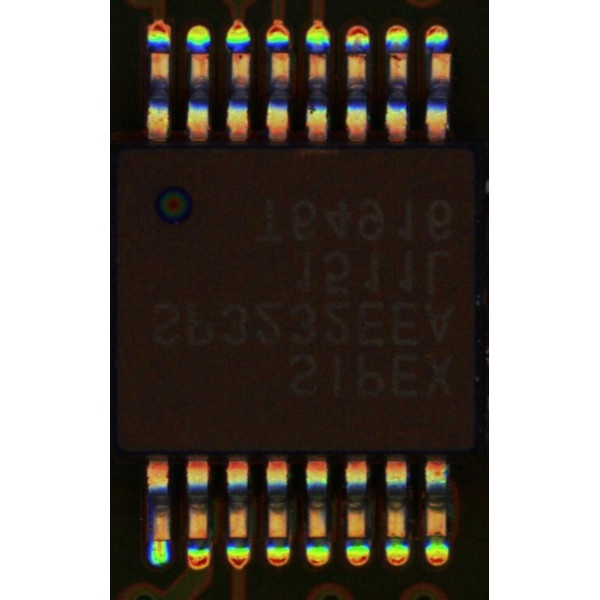Bad_podu: (155, 532, 166, 551)
